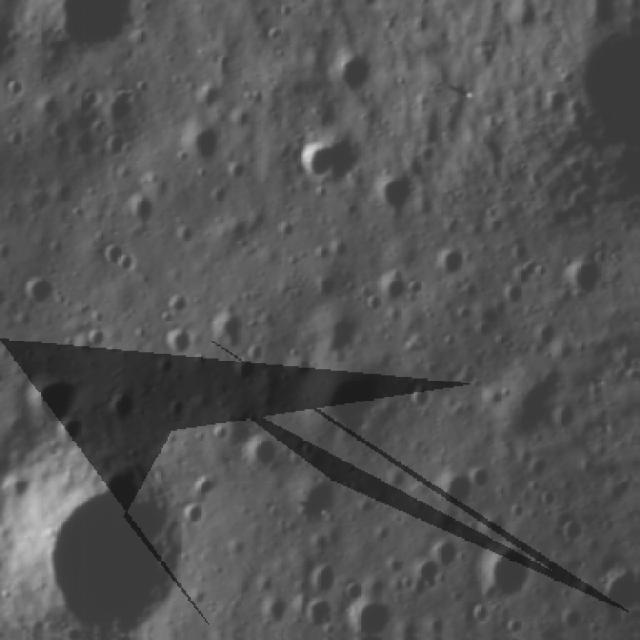crater: (36, 459, 204, 639), (478, 363, 576, 452), (299, 365, 399, 449), (47, 2, 141, 60), (476, 544, 544, 610), (300, 133, 362, 196), (22, 377, 84, 437), (328, 46, 381, 100), (181, 120, 230, 171), (295, 479, 342, 530), (376, 174, 422, 226), (316, 314, 366, 360), (564, 257, 608, 303), (372, 270, 419, 310), (212, 308, 253, 352), (434, 473, 474, 518), (128, 190, 164, 239), (102, 91, 143, 132), (242, 436, 286, 473), (98, 242, 139, 281), (412, 559, 450, 601), (436, 248, 476, 286), (471, 306, 511, 343), (302, 596, 341, 633), (53, 419, 90, 456), (160, 328, 200, 362), (556, 514, 592, 551), (26, 278, 59, 318), (110, 392, 144, 430), (182, 500, 215, 537), (162, 294, 200, 326), (435, 538, 468, 574), (411, 144, 444, 176), (307, 566, 341, 596), (413, 384, 439, 422), (78, 329, 117, 353), (532, 322, 560, 351)
